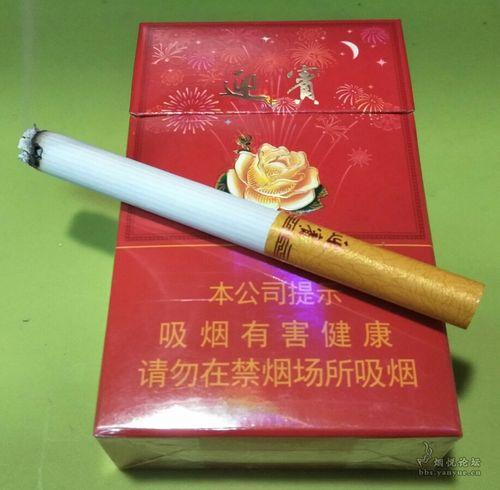smoke: (17, 122, 487, 329)
